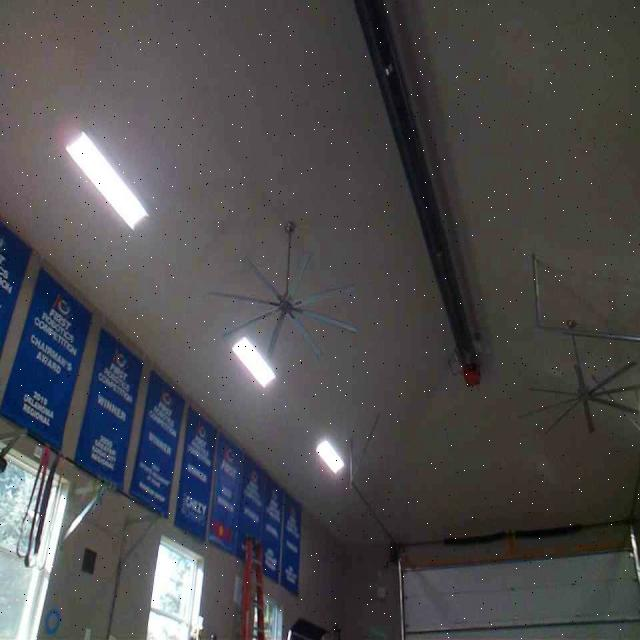ring_blue: (44, 607, 59, 633)
square_black: (80, 548, 99, 574)
